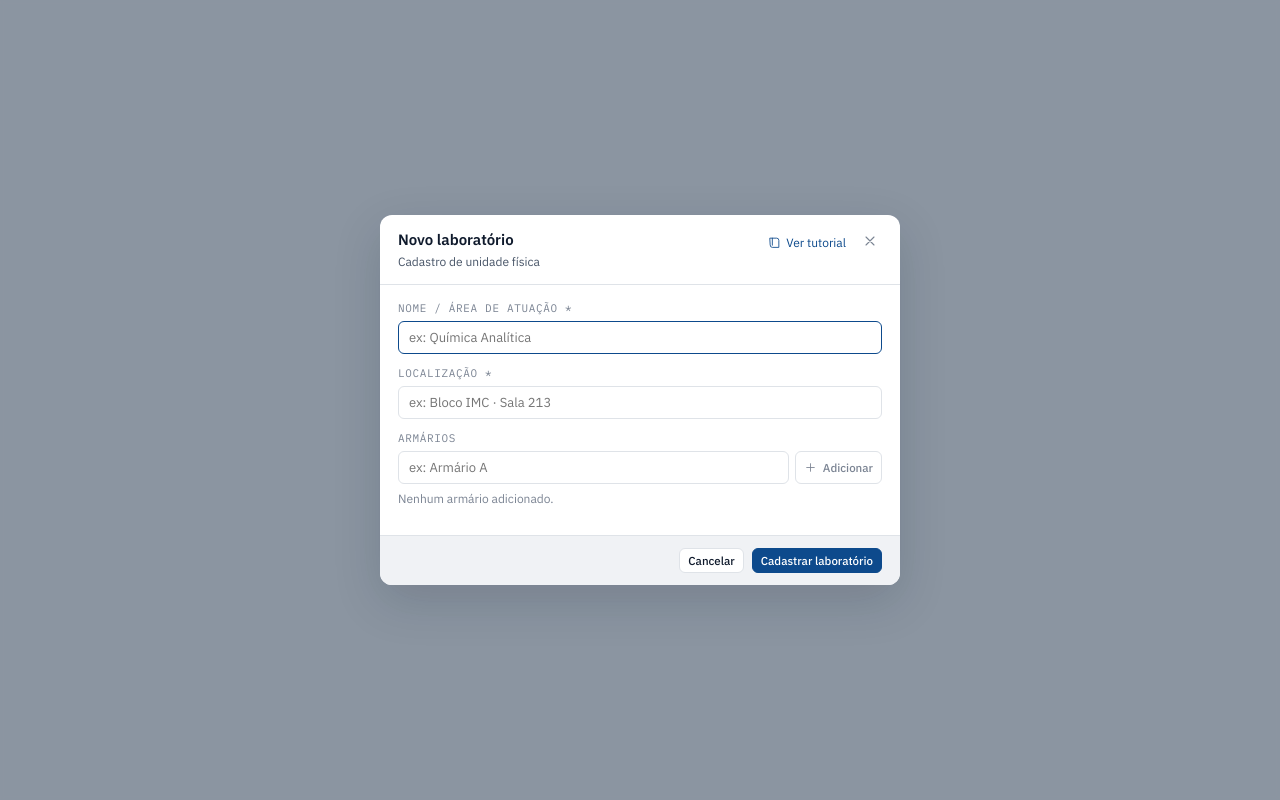
Test: FormNovoLab — entradas inválidas › bloqueia cadastro sem nome e localização
Step 1. Click the button "Cadastrar laboratório" → click(817, 561), box [752,548,882,573]
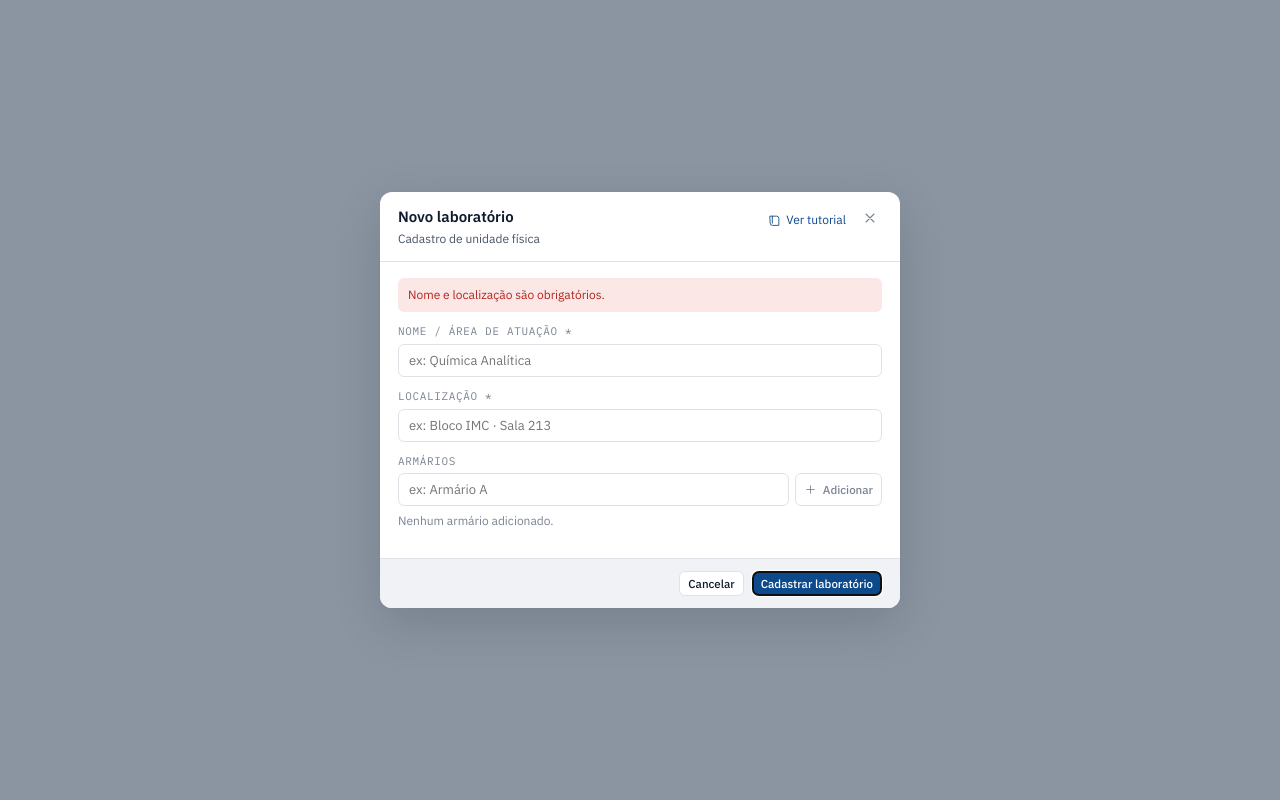
Result: the text "Nome e localização são obrigatórios." is shown at [398,278,882,312]
